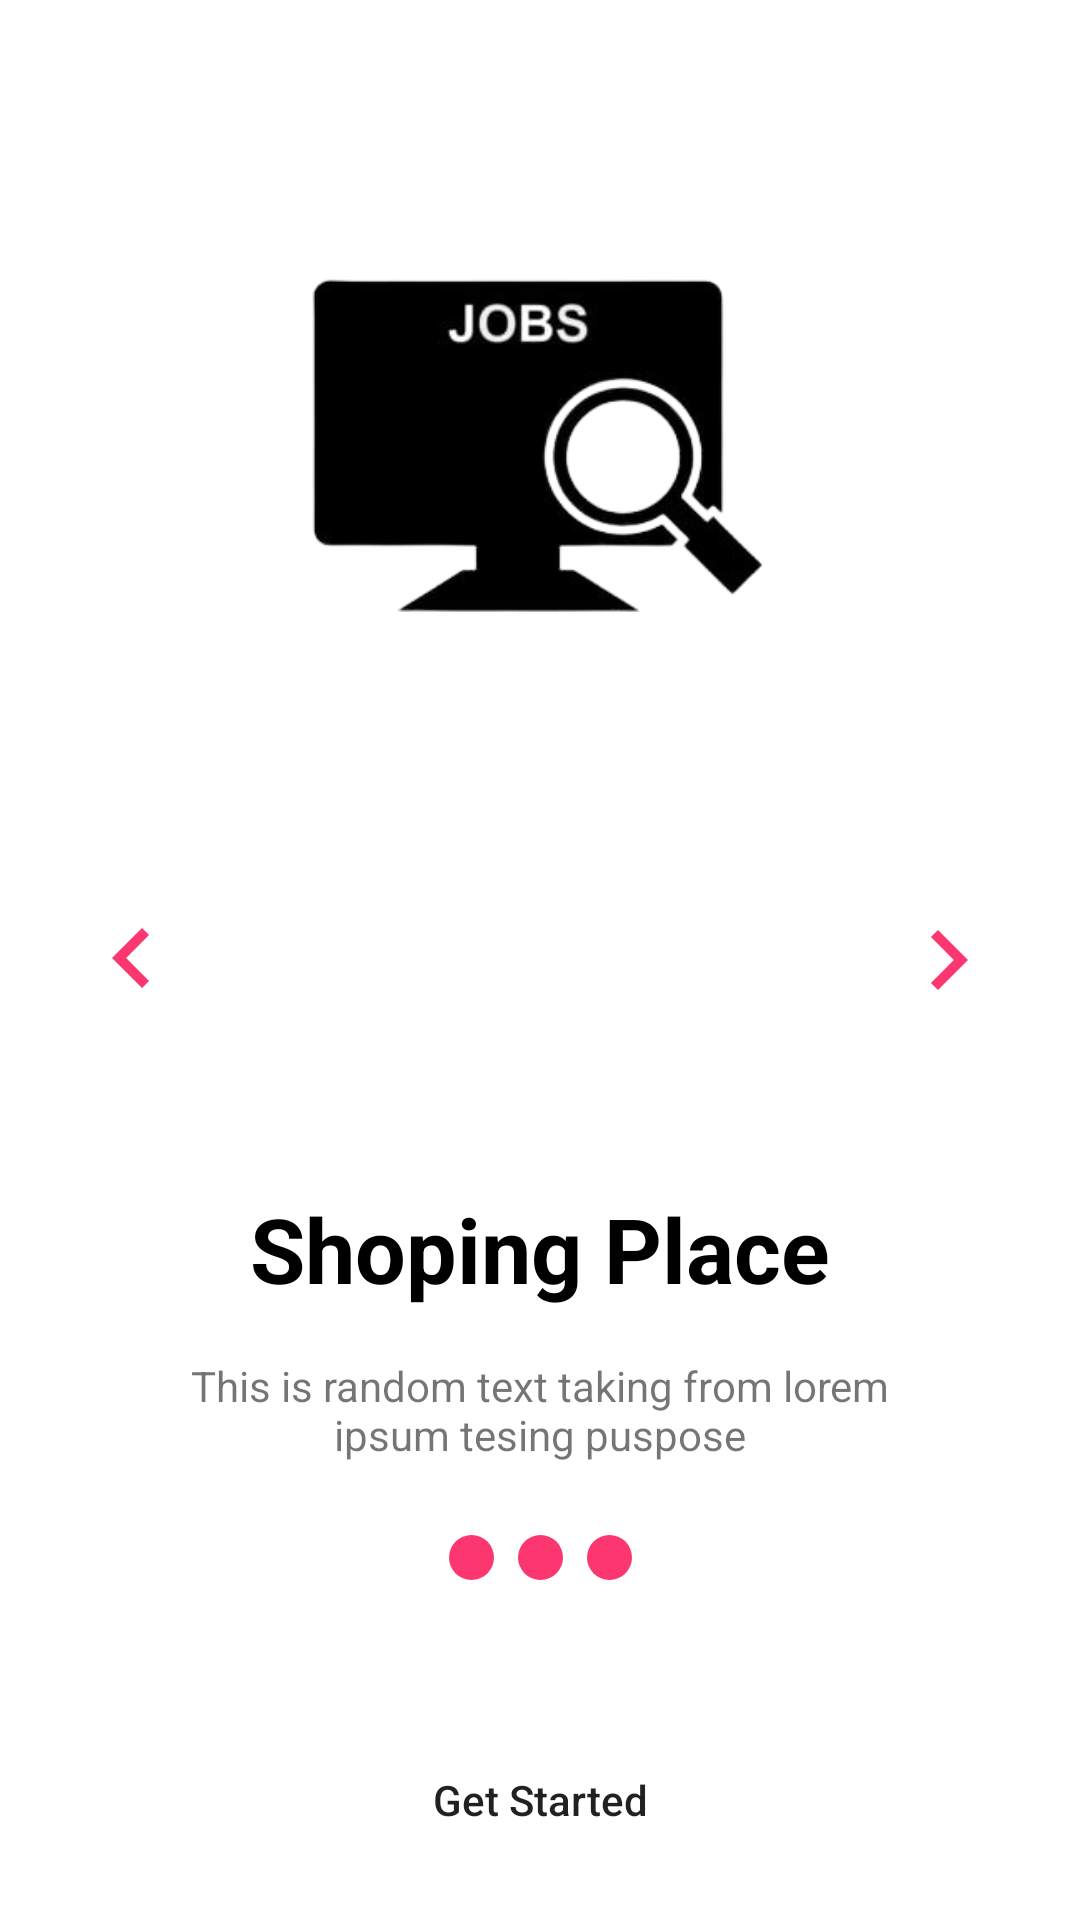

Named icons in this screenshot (1080 × 1920) and their bounding boxes, detection(x1, y1, x2, y2):
back: detection(112, 928, 149, 988)
next: detection(931, 930, 968, 990)
